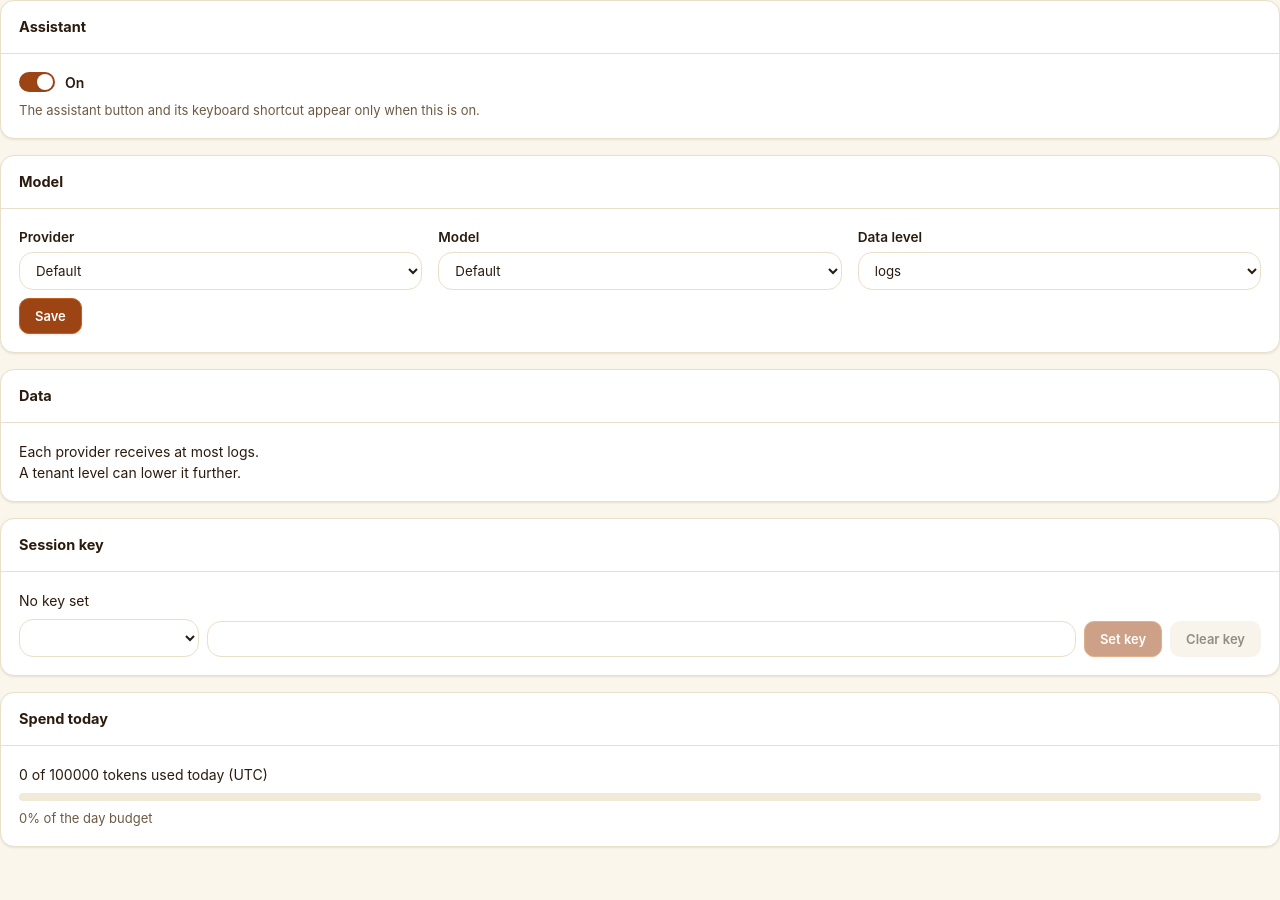
Test: ProfileAssistantTab › explains a 409 for an API key session
Type "k" into the password field named "API key" at (641, 639), box [207,621,1076,657]
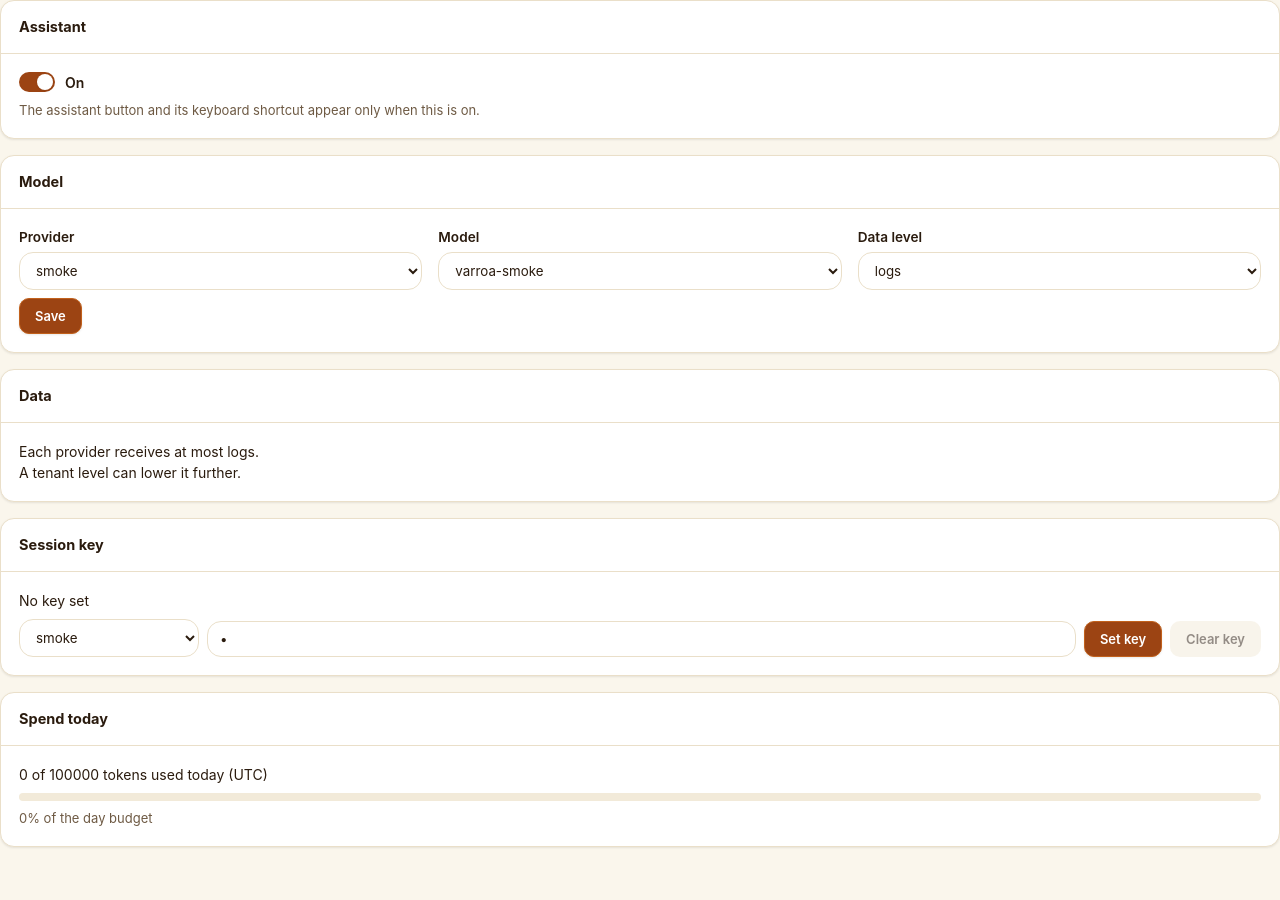
Expected: the dropdown named "Key provider" shows "smoke", [19,619,199,657]
Click the button "Set key" at (1123, 639), box [1084,621,1162,657]
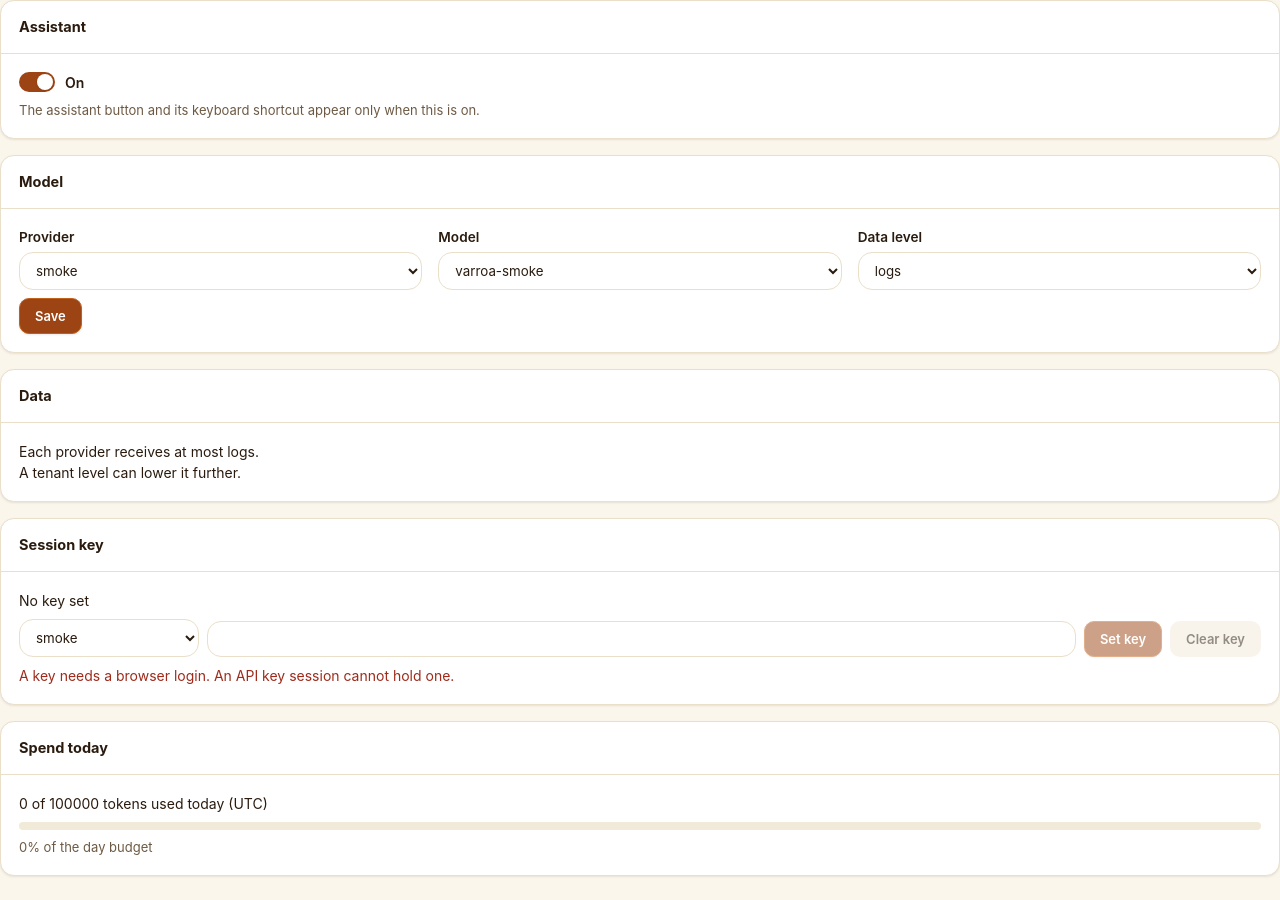
Expected: the text "A key needs a browser login. An API key session cannot hold one." is shown, [19,667,454,684]
